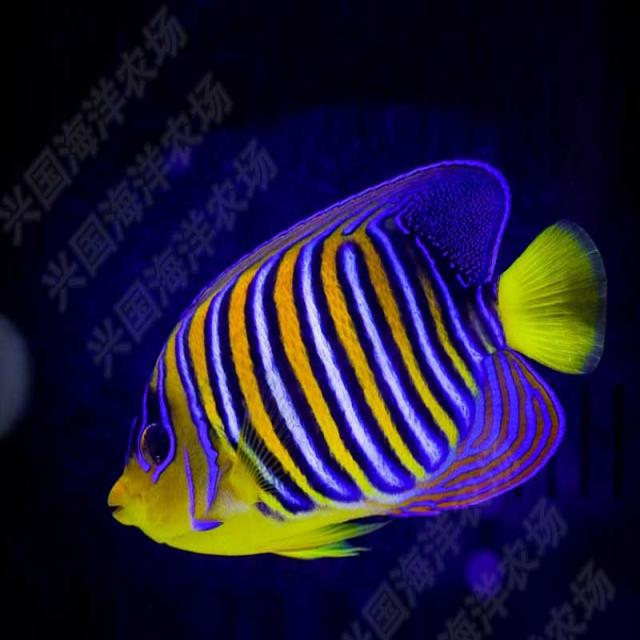AngelFish: (111, 158, 610, 568)
